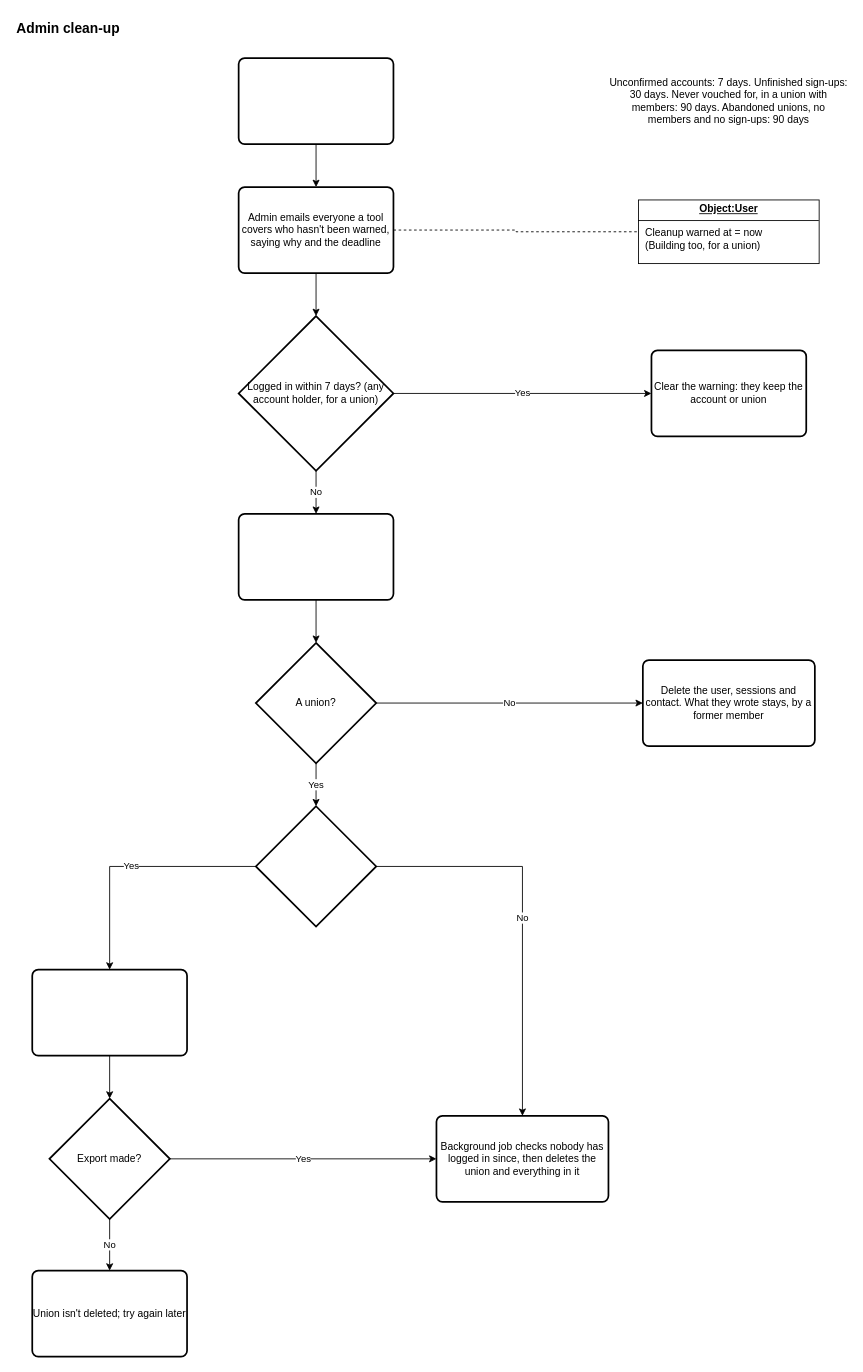
The diagram is 863 pixels wide and 1372 high, and some of its shapes have lost their labels. Each missing label, with the centre of its shape:
Admin opens /admin/cleanup: (315,100)
Does it have members?: (316,866)
Email each member the union's records (zip of PDFs, link for 30 days): (109,1012)
From the deadline, admin deletes those who haven't been back: (315,556)
